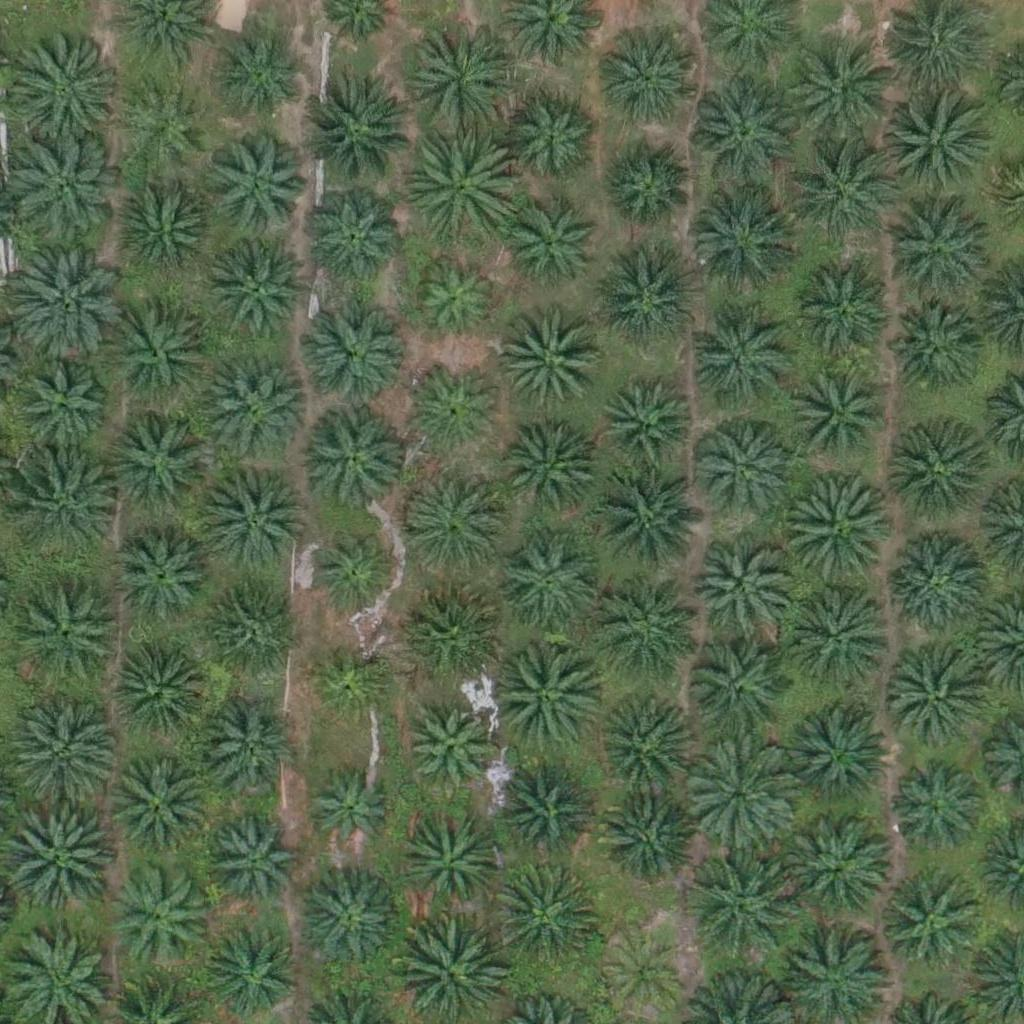Kelapa_Sawit: (10, 31, 123, 145), (7, 448, 120, 562), (11, 584, 124, 698), (300, 82, 413, 196), (682, 181, 795, 295), (681, 852, 794, 966), (6, 251, 119, 364), (4, 696, 117, 809), (104, 297, 217, 410), (410, 31, 523, 144), (482, 638, 595, 751), (681, 76, 794, 189), (781, 476, 894, 589), (783, 31, 896, 144), (877, 87, 990, 200), (7, 803, 120, 916), (410, 134, 522, 248), (689, 293, 801, 407), (12, 138, 124, 251), (104, 407, 216, 520), (202, 350, 314, 463), (198, 465, 310, 578), (402, 465, 514, 578), (591, 465, 703, 578), (682, 737, 794, 850), (783, 580, 895, 693), (786, 135, 898, 248), (490, 861, 602, 974), (10, 360, 110, 461), (115, 641, 215, 742), (115, 524, 215, 625), (113, 179, 213, 280), (204, 244, 304, 345), (199, 588, 299, 689), (204, 697, 304, 798), (302, 408, 402, 509), (414, 584, 514, 685), (497, 319, 597, 420), (496, 531, 596, 632), (487, 760, 587, 861), (590, 691, 690, 792), (600, 591, 700, 692), (596, 246, 696, 347), (600, 25, 700, 126), (694, 418, 794, 519), (691, 534, 791, 635), (789, 699, 889, 800), (791, 261, 891, 362), (790, 365, 890, 466), (887, 200, 987, 301), (884, 422, 984, 523), (890, 530, 990, 631), (889, 655, 989, 756), (399, 812, 499, 913), (297, 872, 397, 973), (107, 862, 207, 963), (111, 755, 211, 855), (215, 137, 315, 237), (302, 185, 402, 285), (304, 306, 404, 406), (502, 417, 602, 517), (684, 641, 784, 741), (884, 300, 984, 400), (878, 869, 978, 969), (789, 818, 889, 918), (591, 788, 691, 888), (217, 34, 305, 122), (308, 636, 396, 724), (308, 523, 396, 611), (403, 704, 491, 792), (417, 256, 505, 344), (600, 931, 688, 1019), (207, 930, 295, 1018), (206, 821, 294, 909), (121, 85, 208, 174), (303, 768, 390, 856), (412, 367, 499, 455), (506, 95, 593, 183), (510, 202, 597, 290), (601, 376, 688, 464), (604, 137, 691, 225), (892, 764, 979, 852)
